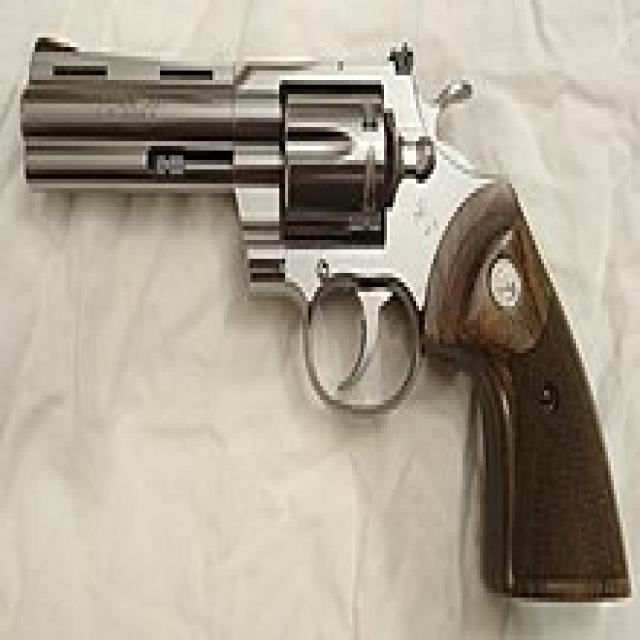handgun: (14, 28, 635, 612)
